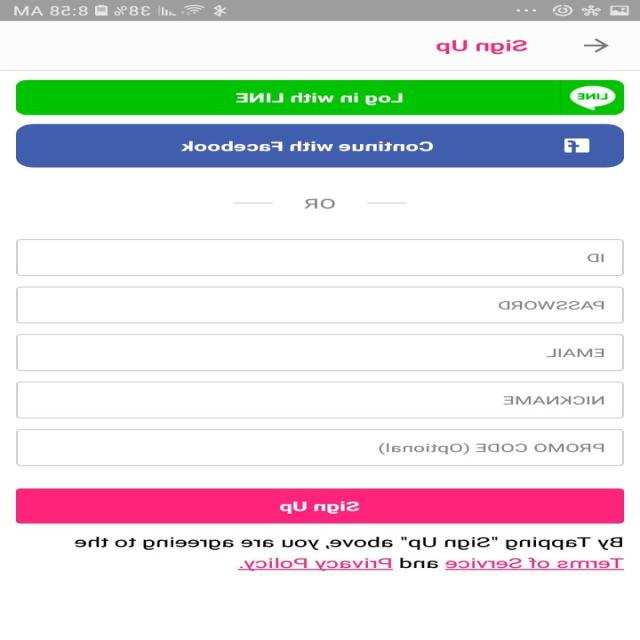EditText: (17, 428, 625, 466), (17, 286, 624, 324), (17, 239, 625, 276), (17, 334, 624, 371), (17, 382, 625, 418)
Icon: (584, 38, 609, 52)
Text: (75, 535, 625, 571), (378, 442, 604, 454), (437, 40, 528, 54), (498, 301, 604, 310), (503, 396, 605, 404), (547, 348, 605, 357), (305, 199, 335, 209), (588, 253, 604, 262)
TextButton: (17, 124, 624, 168), (17, 488, 625, 524), (17, 80, 625, 115)
